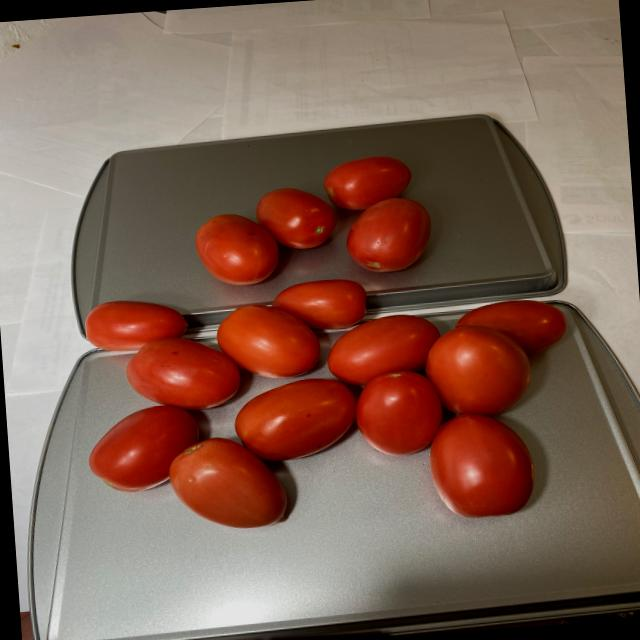tomato: (70, 146, 578, 548)
